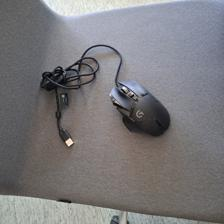mouse: (110, 80, 171, 136)
